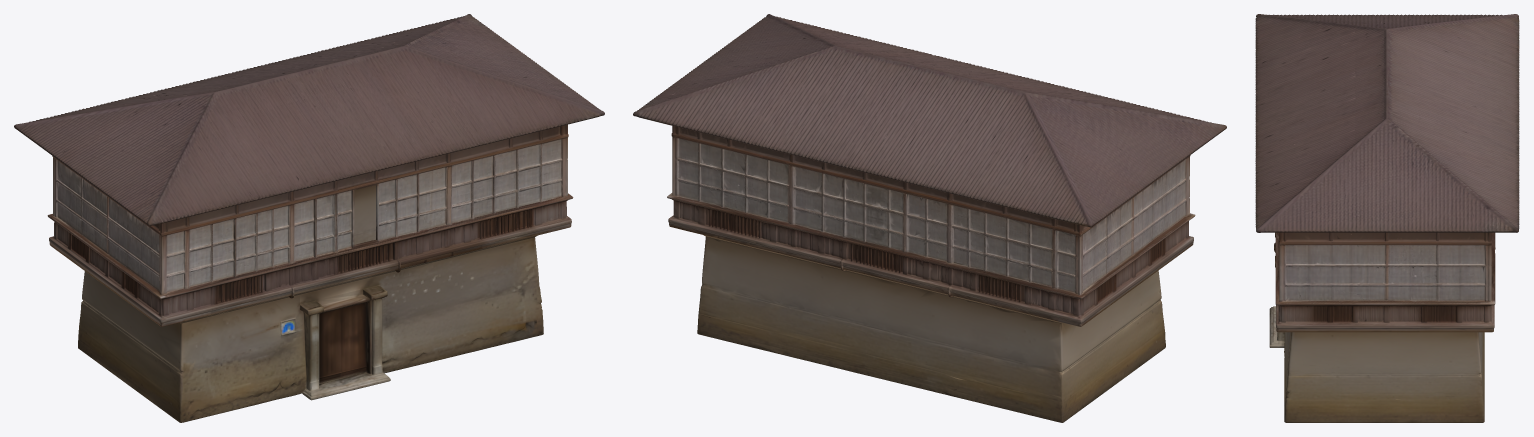
The model's file is bnt-v1.glb.
The picture shows the model from 3 angles, left to right: view 1: azimuth 30°, elevation 25°; view 2: azimuth 150°, elevation 25°; view 3: azimuth 270°, elevation 25°; orthographic projection. The views are drawn at different scales.
Visible parts, largest first — view 1: material; view 2: material; view 3: material.
Boxes of the visible parts, <box> form: material: <box>14,14,604,422</box>; material: <box>633,14,1226,422</box>; material: <box>1255,14,1519,422</box>.
Size of the model in its own units: 1.02 by 0.5817 by 0.5259.
1 material, 1 textured.
